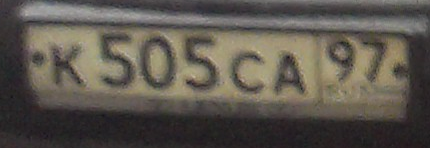character: (99, 25, 140, 91), (181, 30, 224, 90), (140, 27, 179, 93), (227, 47, 267, 96), (49, 39, 90, 86), (274, 52, 309, 101), (325, 37, 357, 87), (361, 36, 389, 83)
